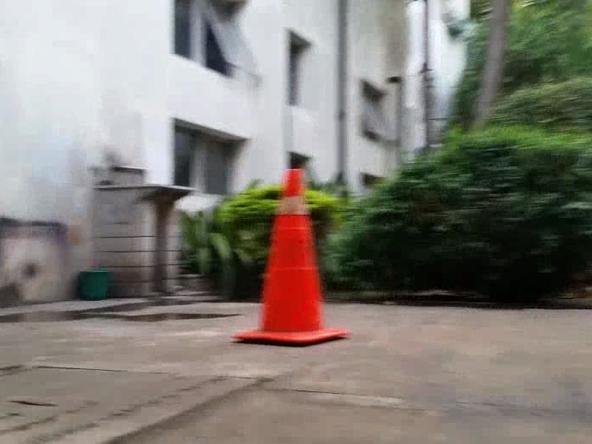0 cone: (232, 170, 349, 343)
